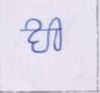i_matra: (50, 17, 64, 50)
